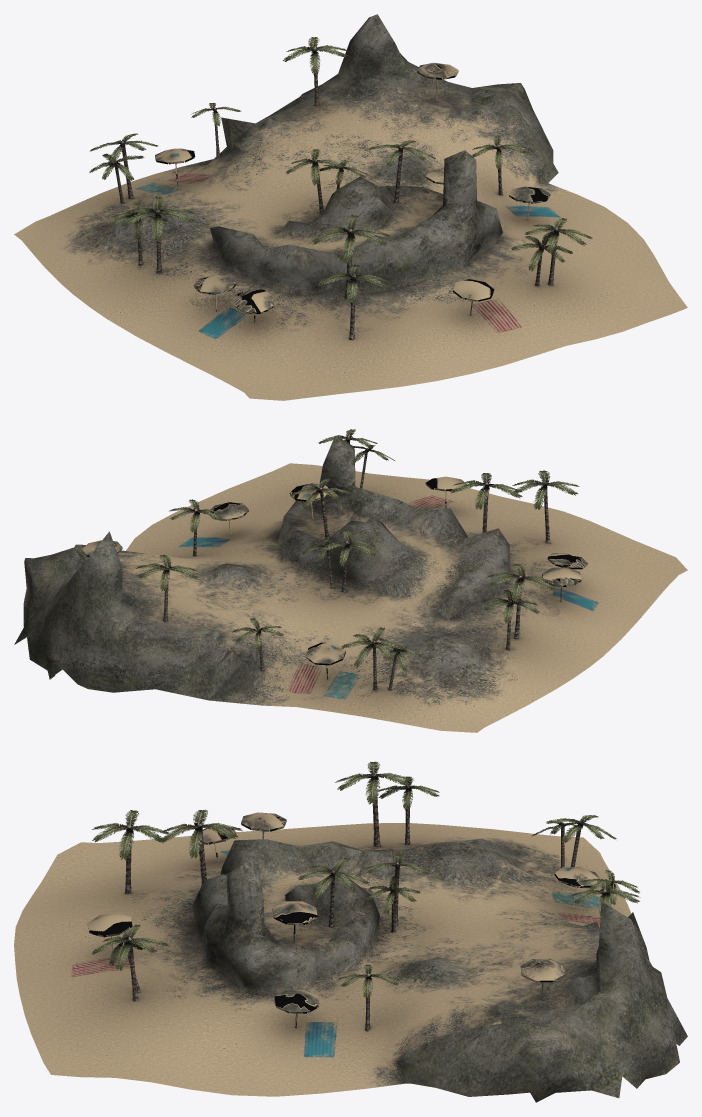
Rendered from island.obj.
3 renders of one model, top to bottom at view 1: azimuth 30°, elevation 25°; view 2: azimuth 150°, elevation 25°; view 3: azimuth 270°, elevation 25°, orthographic. The views are drawn at different scales.
Parts seen in each view (by area): view 1: Ground, Palms, Tents; view 2: Ground, Palms, Tents; view 3: Ground, Palms, Tents.
Boxes of the visible parts, box(x1,y1,x2,y2) form: Ground: box(14, 14, 687, 400); Palms: box(89, 37, 592, 340); Tents: box(155, 62, 550, 322); Ground: box(14, 435, 687, 732); Palms: box(135, 429, 579, 690); Tents: box(81, 476, 588, 679); Ground: box(14, 823, 687, 1102); Palms: box(92, 761, 640, 1031); Tents: box(87, 812, 600, 1028).
Bounding box in the file's own units: 29.34 × 7.89 × 30.35.
3 materials, 3 textured.
